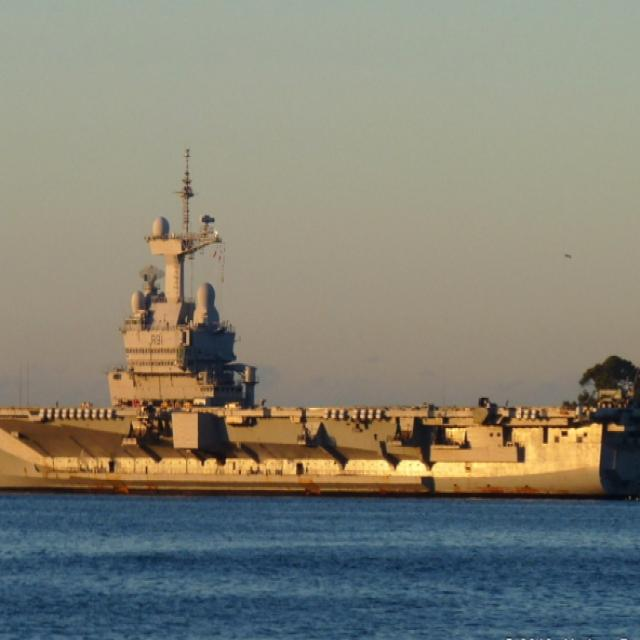Portanaves: (1, 142, 640, 503)
